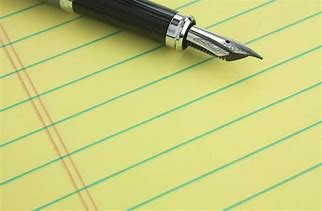pen: (35, 1, 274, 66)
